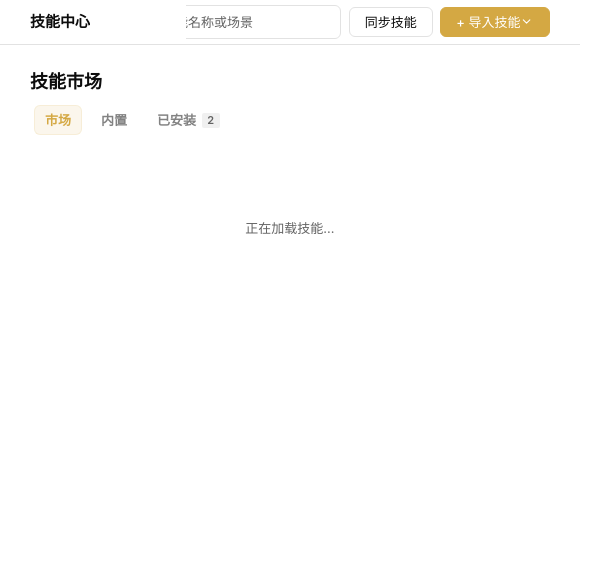
Test: SkillCenterPage › 搜索框按名称或描述过滤技能
The image size is (597, 575).
Click the button "内置". click: x=114, y=120
box: [90,105,138,135]
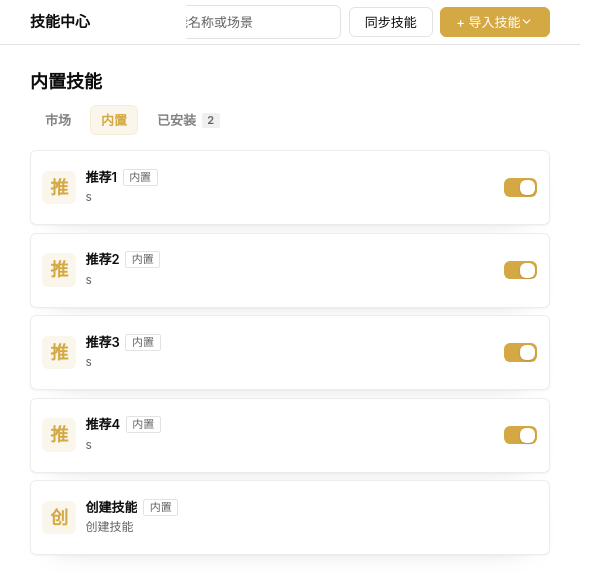
Type "Create" into the field with placeholder "搜索技能名称或场景". click: x=232, y=22
box: [136,13,329,31]
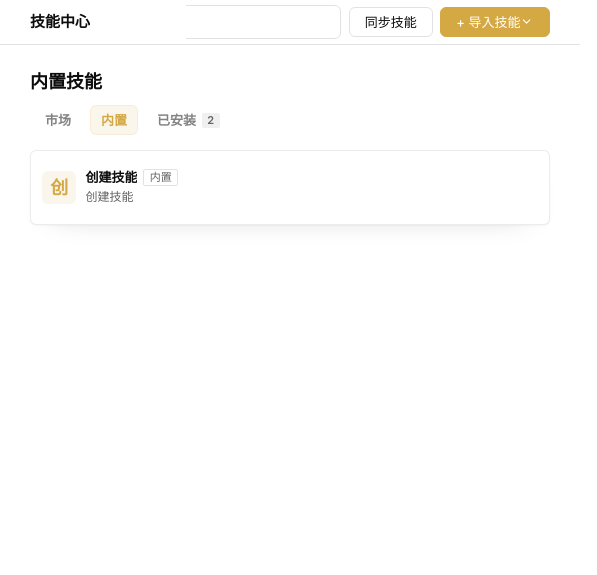
Check: the 1st text "创建技能" is shown, box [85,168,137,187]
Check: the button "推荐1" is gone
